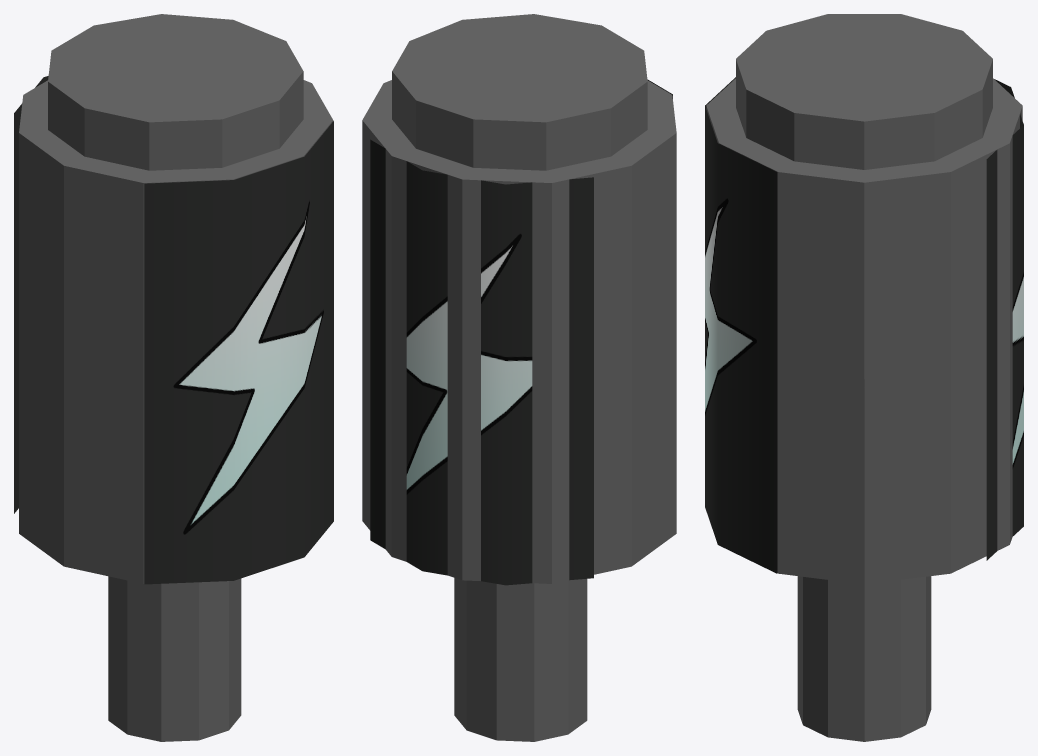
The model's file is SM_Grenade.FBX.
3 renders of one model, left to right at view 1: azimuth 30°, elevation 25°; view 2: azimuth 150°, elevation 25°; view 3: azimuth 270°, elevation 25°, orthographic.
Parts seen in each view (by area): view 1: aa:pCylinder4, Object001, Object002; view 2: aa:pCylinder4, Object002; view 3: aa:pCylinder4, Object001, Object002.
Part boxes in pixels (<box>): aa:pCylinder4: <box>19,14,333,741</box>; Object001: <box>144,121,333,584</box>; Object002: <box>14,76,48,513</box>; aa:pCylinder4: <box>362,14,676,741</box>; Object002: <box>370,139,593,585</box>; aa:pCylinder4: <box>706,14,1022,741</box>; Object001: <box>705,77,776,573</box>; Object002: <box>986,79,1023,560</box>.
Size of the model in its own units: 3.09 by 7.03 by 3.14.
